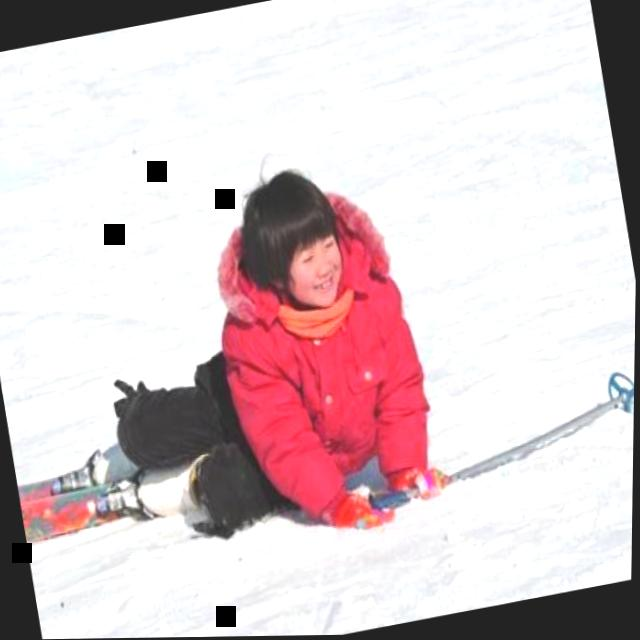Fall-Detected: (4, 121, 482, 596)
